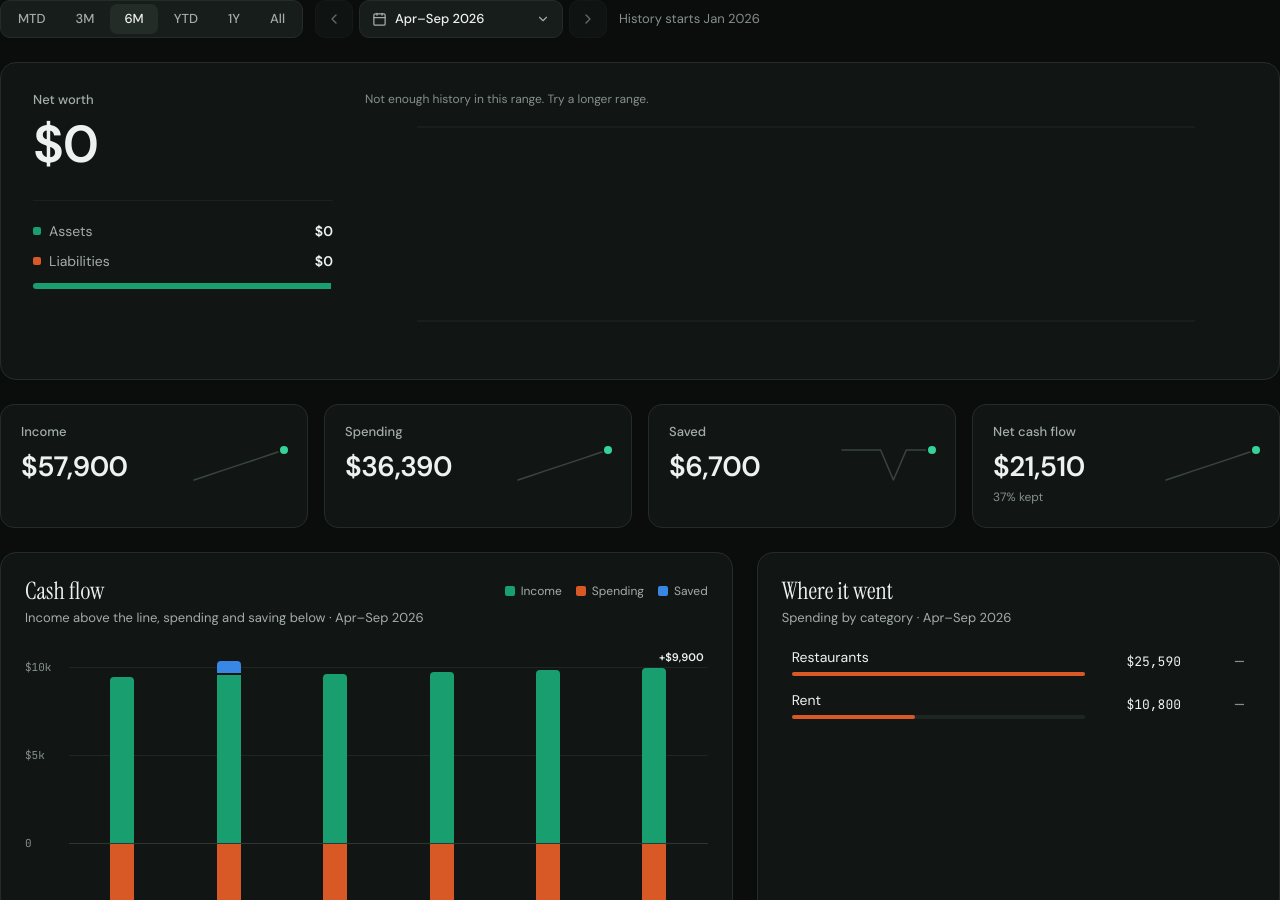
Test: AnalyticsView › selects a month, a drag range and a whole year from the picker without refetching cash flow
Expected: the heading "Where it went" is shown, [782,575,893,606]
Click the button with test id "period-button". click: (461, 19)
box: [359,0,563,38]
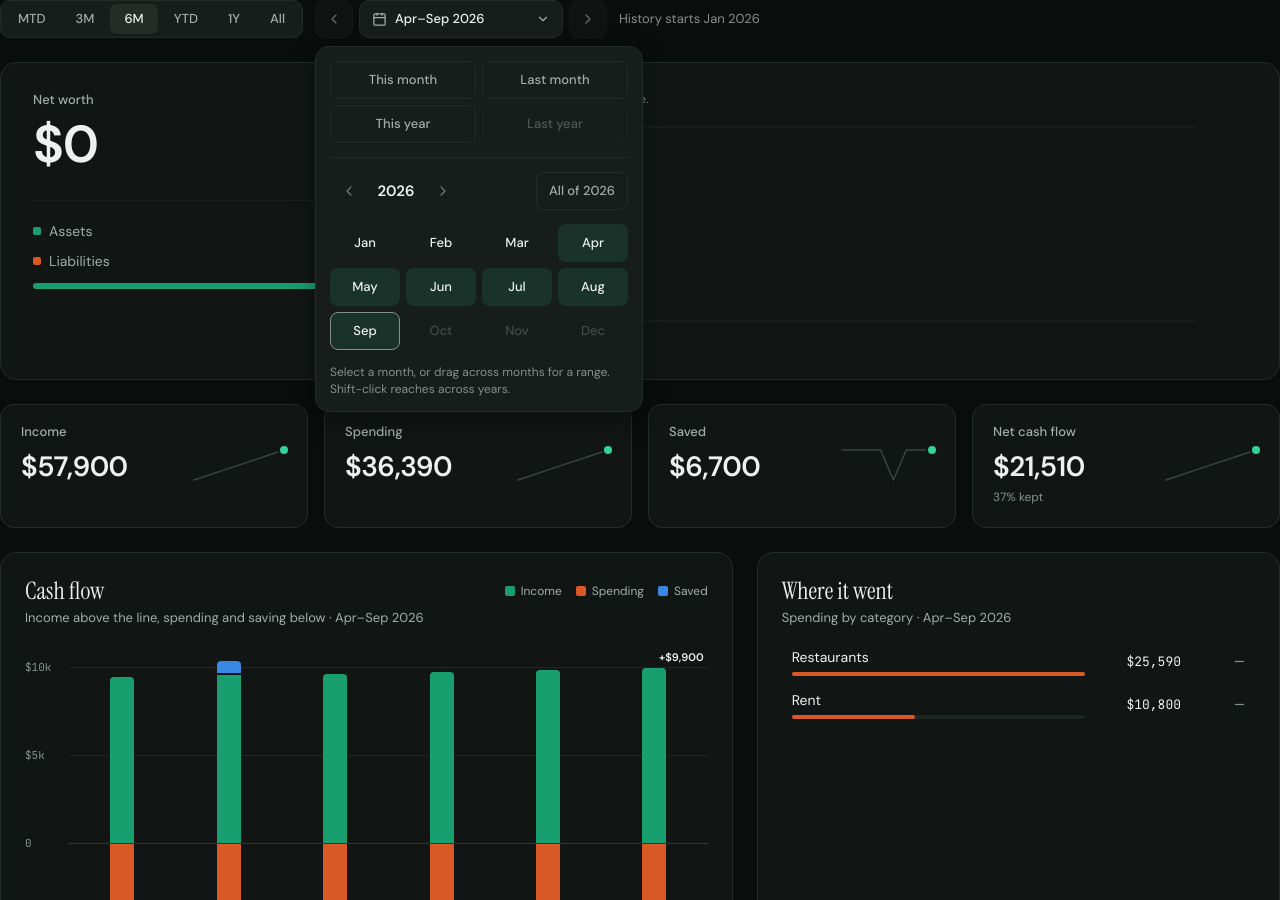
Click the button with aria-label "February 2026". click: (441, 243)
box: [406,224,476,262]
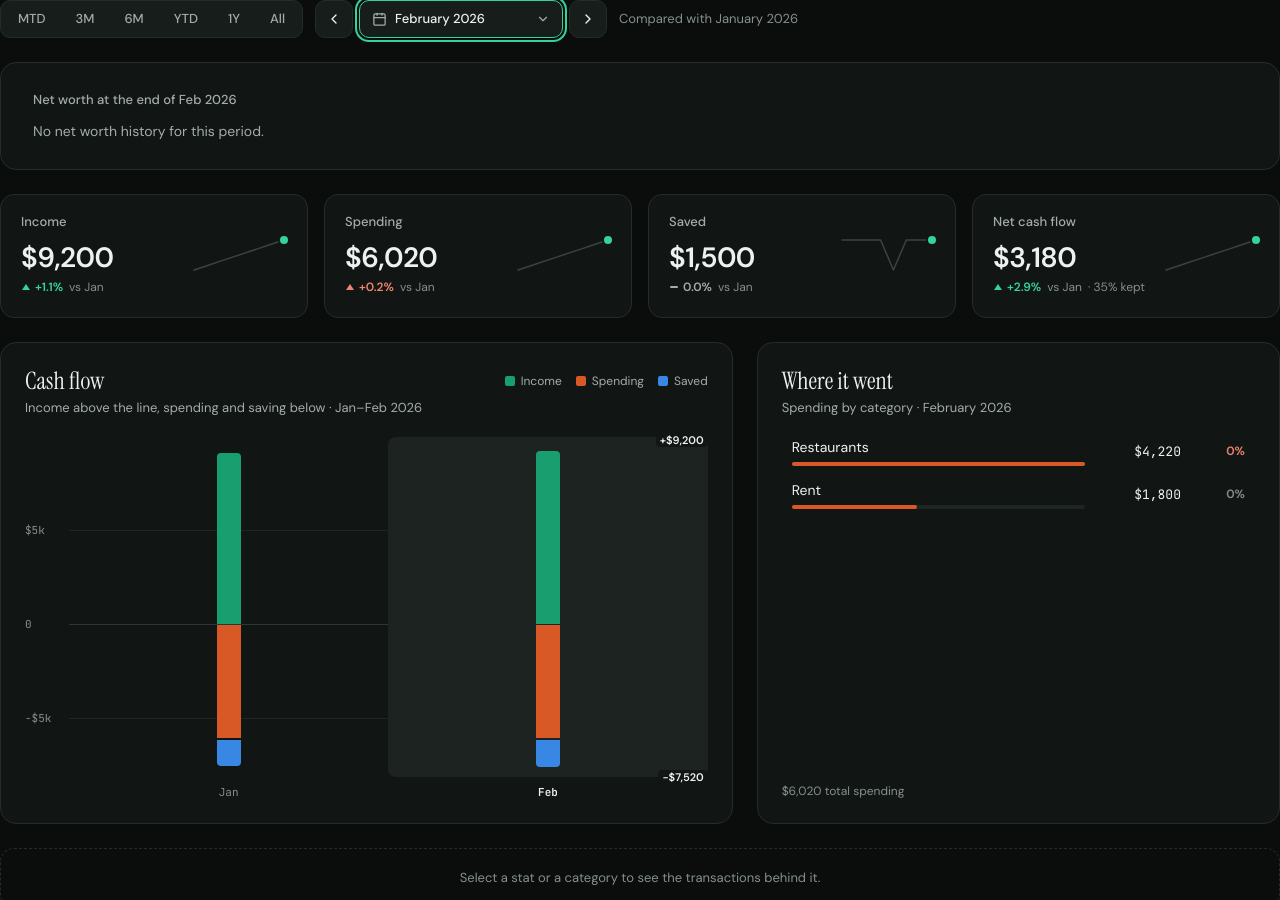
Expected: the button with test id "period-button" reads "February 2026"
Click the button with test id "period-button". click: (461, 19)
box: [359,0,563,38]
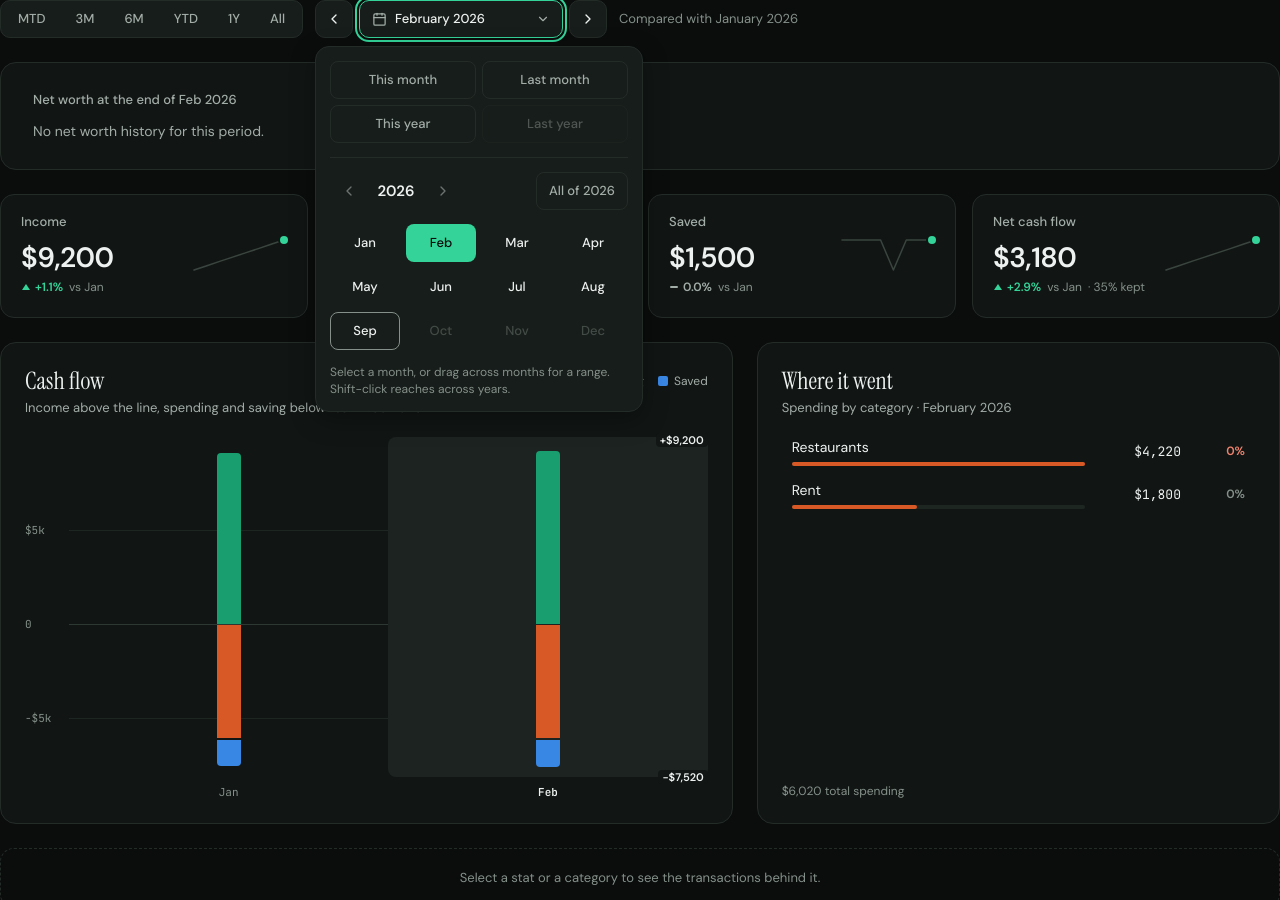
Expected: the button named "Earlier year" is disabled, [330,172,368,210]
Press the mouse on the button with aria-label "March 2026" at (517, 243), box [482,224,552,262]
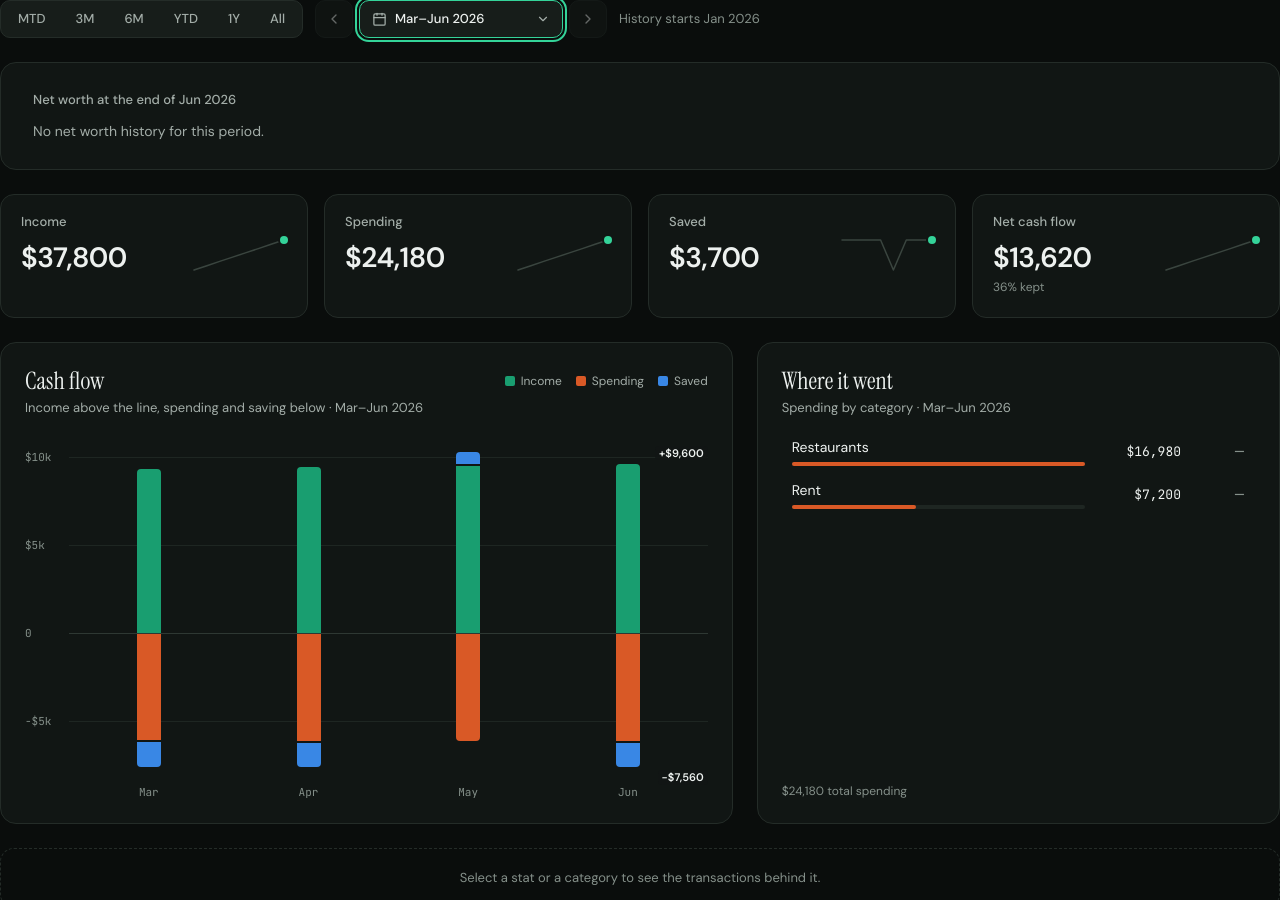
Expected: the button with test id "period-button" reads "Mar–Jun 2026"
Expected: the text "History starts Jan 2026" is shown, [619,10,760,28]
Click the button with test id "period-button". click: (461, 19)
box: [359,0,563,38]
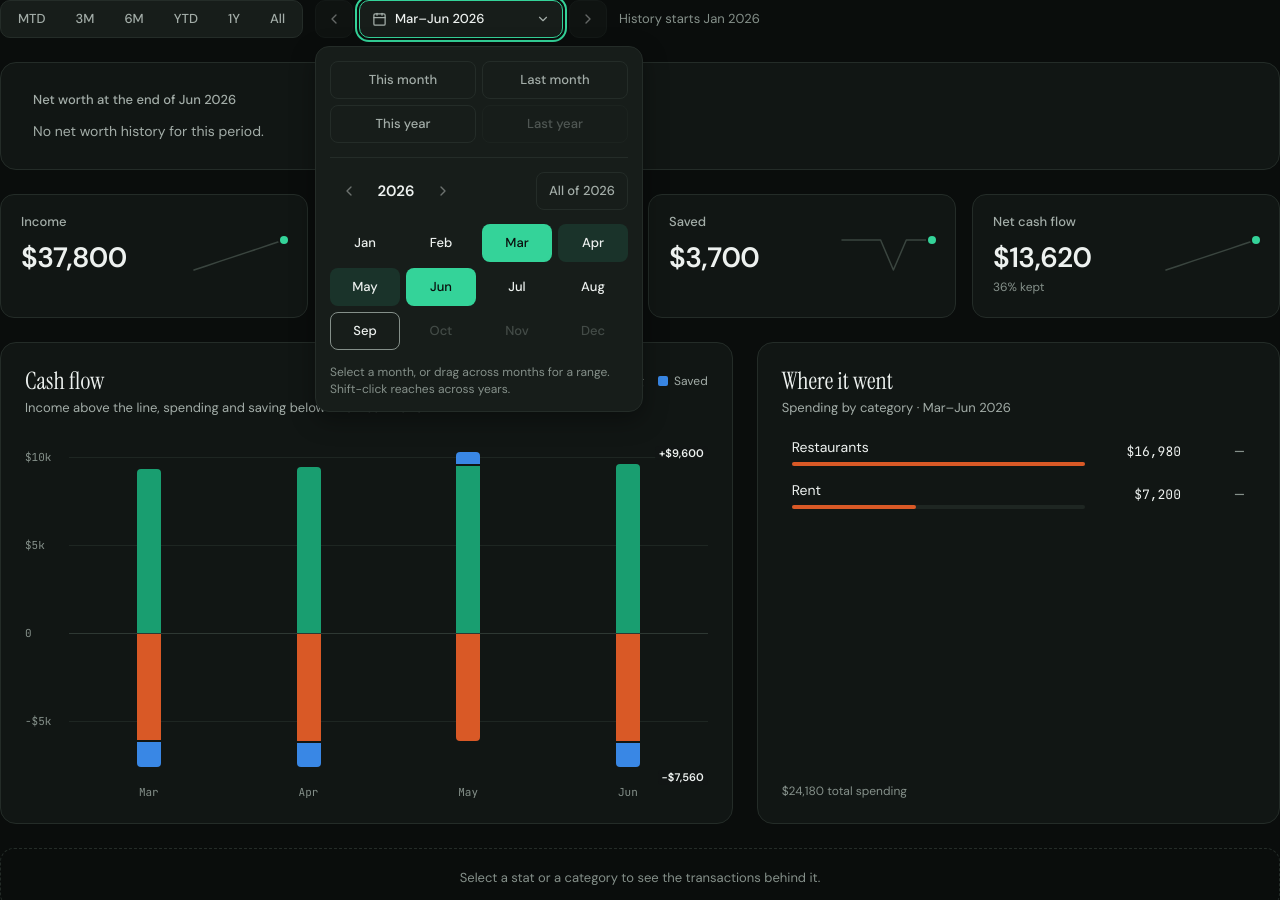
Click the button "All of 2026". click: (582, 191)
box: [536,172,628,210]
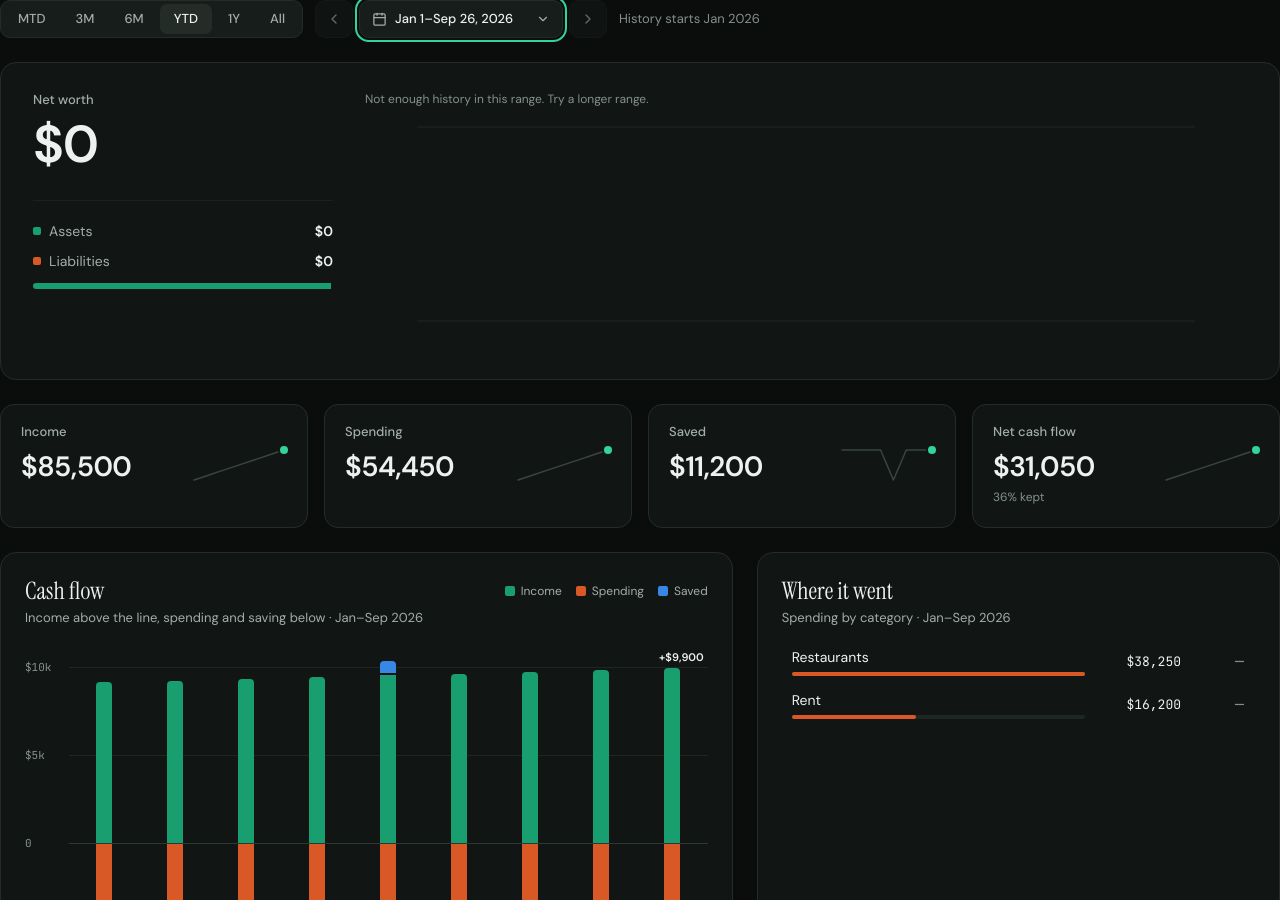
Expected: the button with test id "period-button" reads "Jan 1–Sep 26, 2026", [359,0,563,38]
